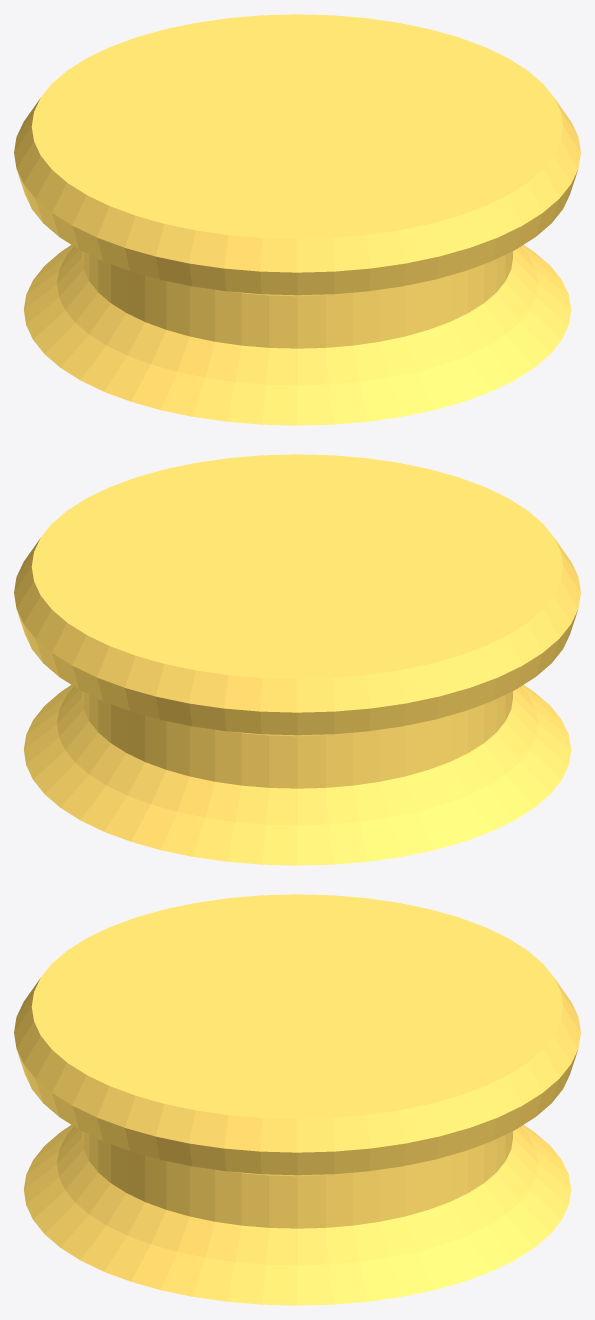
The model's file is dong_son_drum_3d.glb.
The picture shows the model from 3 angles, top to bottom: view 1: azimuth 30°, elevation 25°; view 2: azimuth 150°, elevation 25°; view 3: azimuth 270°, elevation 25°; orthographic projection.
Parts seen in each view (by area): view 1: Cylinder; view 2: Cylinder; view 3: Cylinder.
Part boxes in pixels (x1,y1,x2,y2): Cylinder: (14,14,580,425); Cylinder: (14,454,580,865); Cylinder: (14,894,580,1305).
Size of the model in its own units: 2.66 by 0.95 by 2.66.
